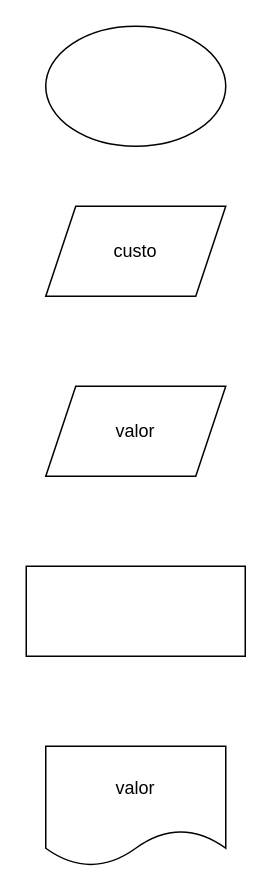
Image size: 272x893. Some labels were removed from this diagram. The centre of each missing label's shape, as x and y in pixels:
"inicio" goes at point 135,85.
"valor=custo+65/100*custo" goes at point 135,610.
